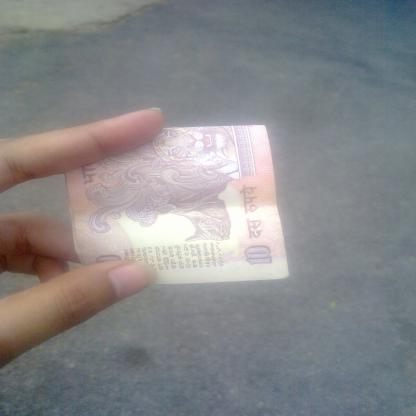Old10Back: (63, 124, 292, 285)
